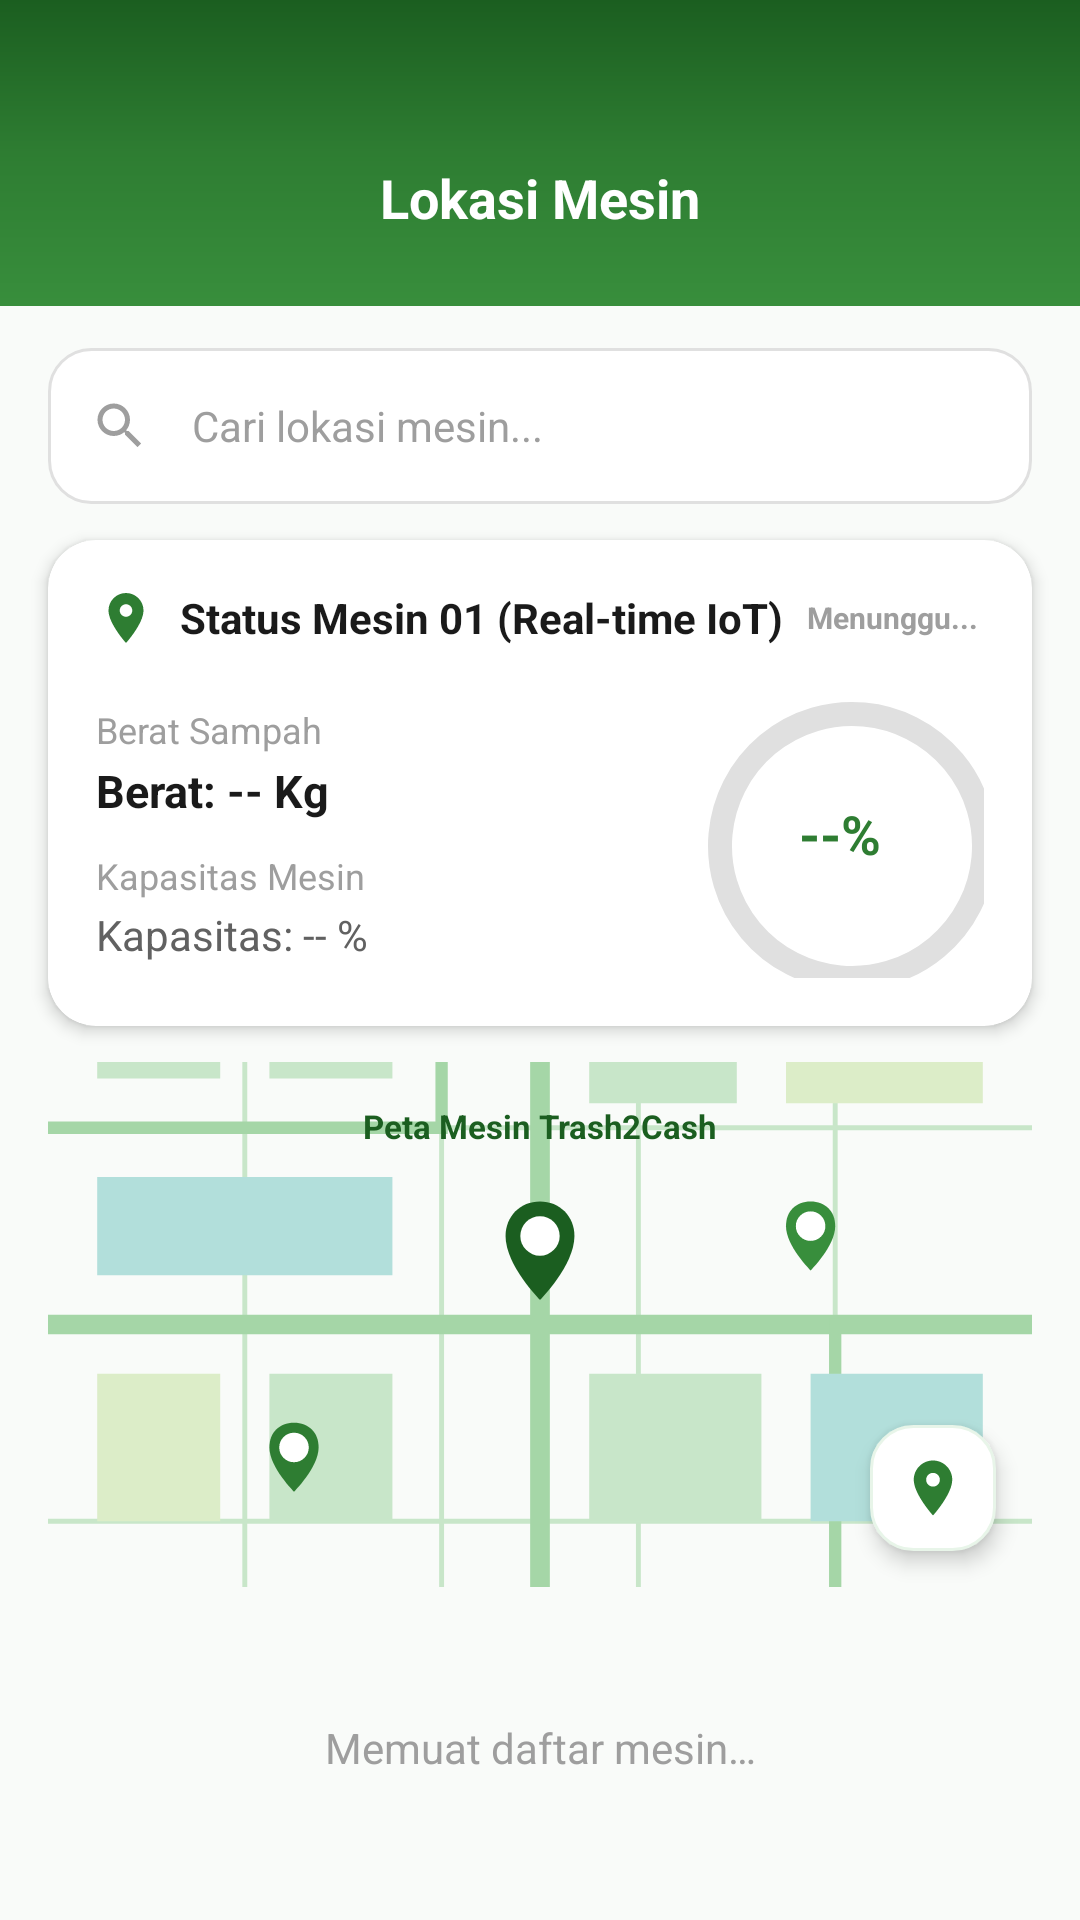

Screen size 1080 x 1920. Icon name, then its center in pixels as (x,y):
search: (119,425)
